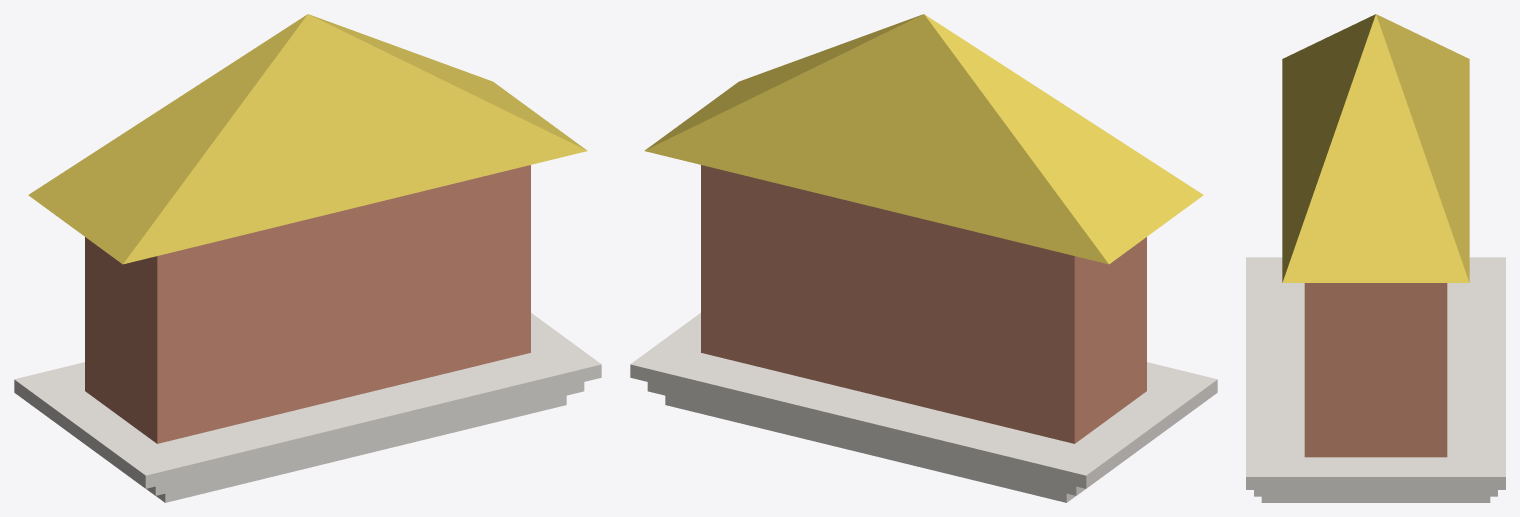
Rendered from 太和殿.glb.
3 views of the same model, side by side, from view 1: azimuth 30°, elevation 25°; view 2: azimuth 150°, elevation 25°; view 3: azimuth 270°, elevation 25° (orthographic).
Parts seen in each view (by area): view 1: body, roof, step2, step1, step0; view 2: body, roof, step2, step1, step0; view 3: roof, step2, body, step1, step0.
Boxes of the visible parts, left/top/right/bottom form: body: left=85, top=165, right=530, bottom=443; roof: left=28, top=14, right=587, bottom=264; step2: left=14, top=313, right=601, bottom=488; step1: left=146, top=382, right=584, bottom=495; step0: left=156, top=395, right=566, bottom=502; body: left=701, top=165, right=1146, bottom=443; roof: left=644, top=14, right=1203, bottom=264; step2: left=630, top=313, right=1217, bottom=488; step1: left=647, top=382, right=1085, bottom=495; step0: left=665, top=395, right=1075, bottom=502; roof: left=1282, top=14, right=1469, bottom=282; step2: left=1246, top=257, right=1505, bottom=489; body: left=1304, top=283, right=1447, bottom=457; step1: left=1254, top=490, right=1497, bottom=496; step0: left=1261, top=496, right=1490, bottom=502.
Size of the model in its own units: 6.12 by 5 by 3.
